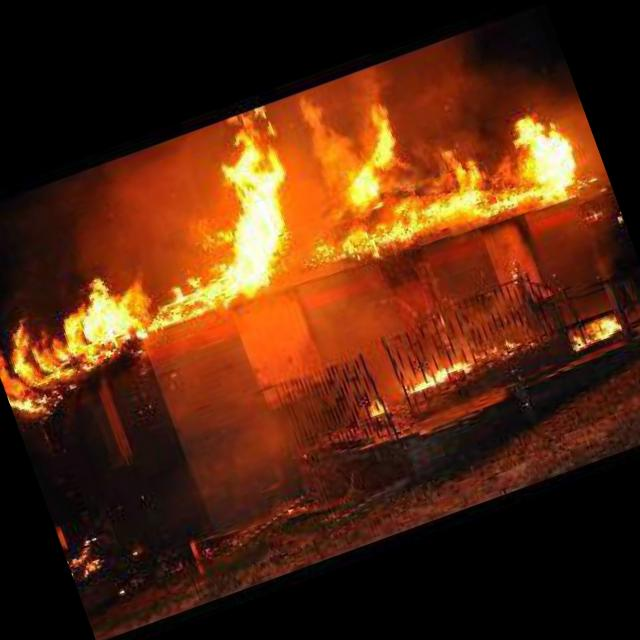fire: (0, 3, 610, 420), (386, 320, 524, 400), (546, 302, 632, 363), (340, 387, 390, 429)
